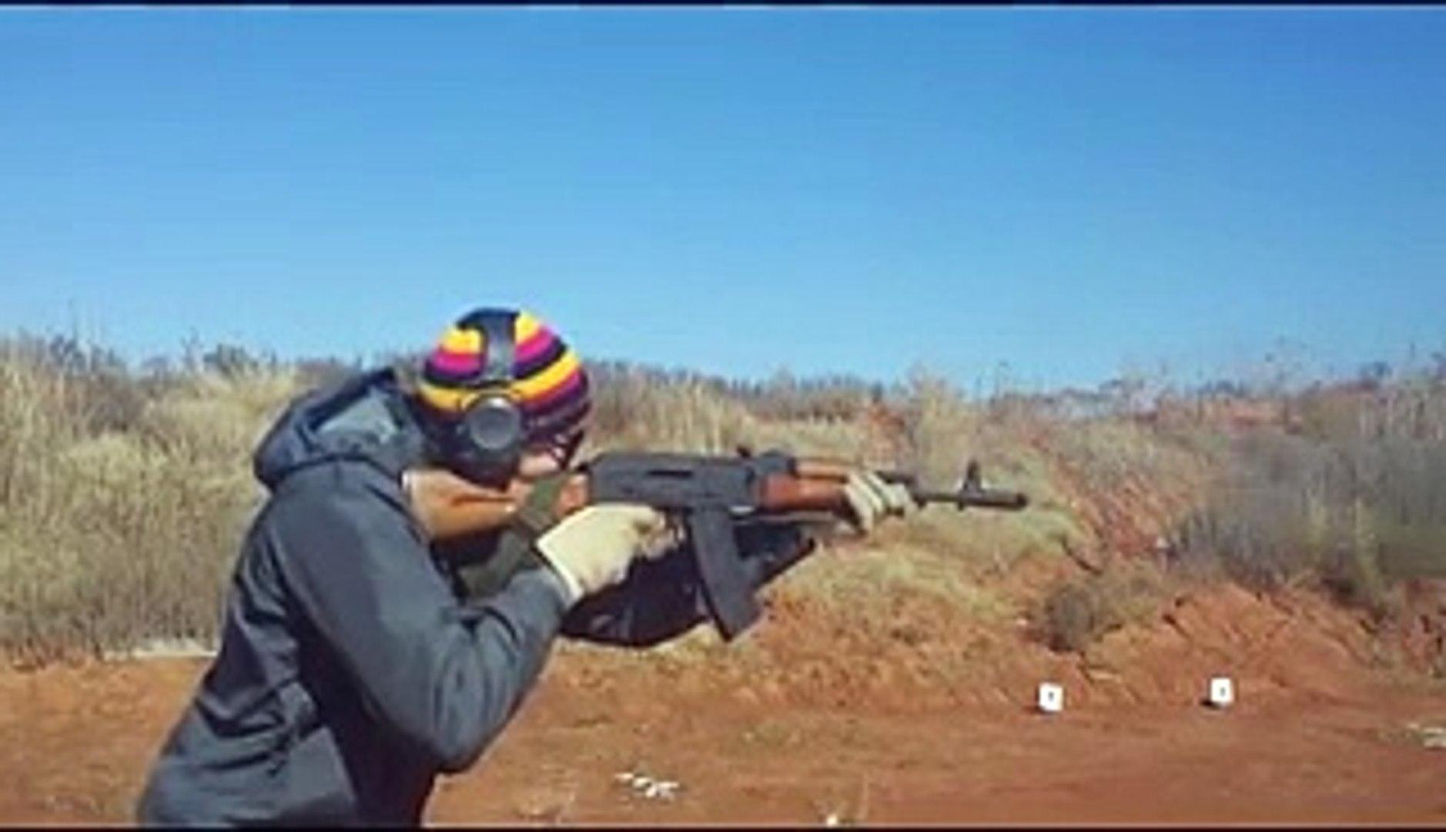larga: (399, 445, 1031, 646)
